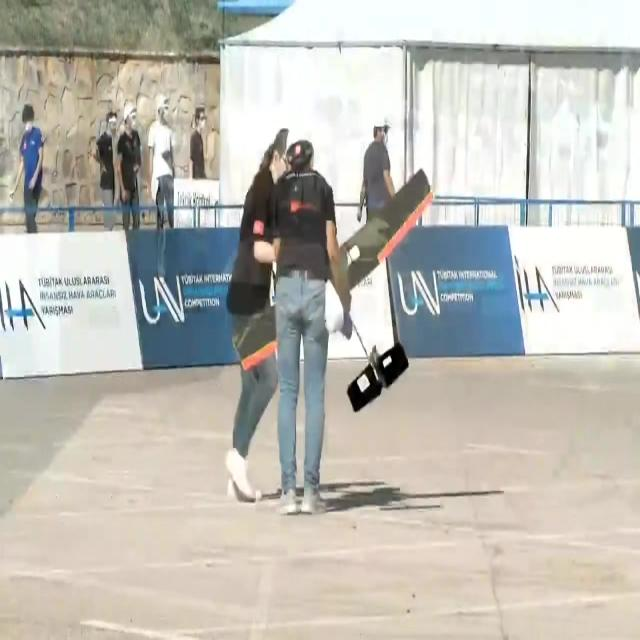iha: (228, 166, 424, 413)
